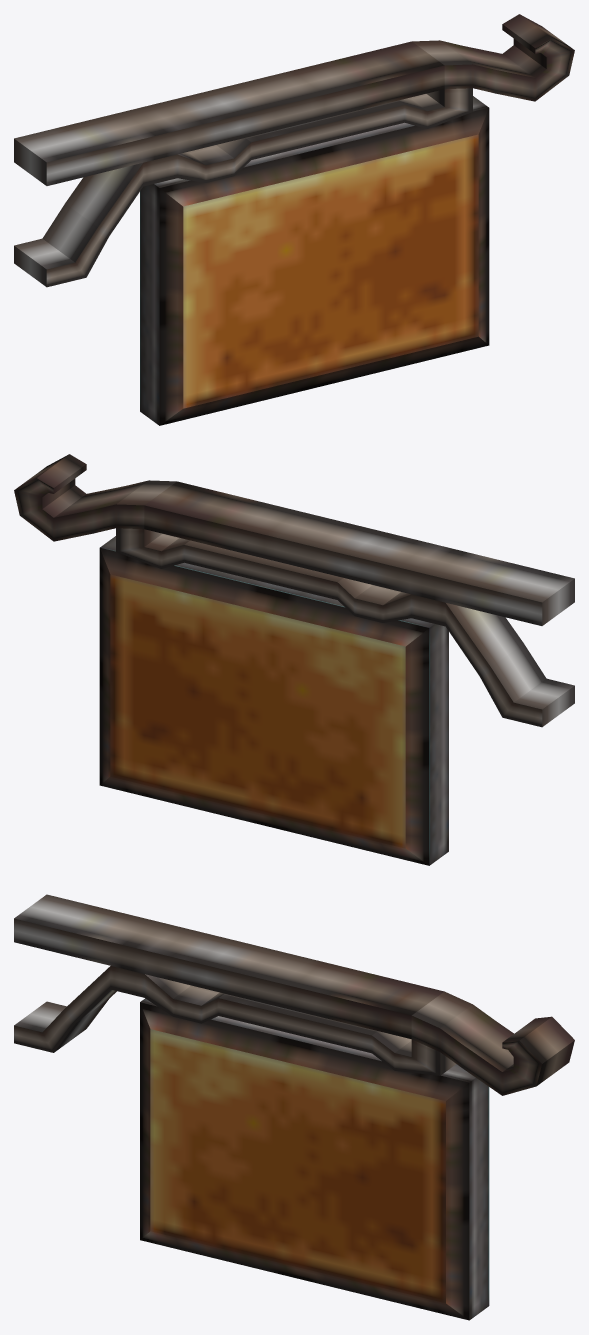
The model's file is Poly_SF_Outside_B_Board_Sign_08.obj.
3 renders of one model, top to bottom at view 1: azimuth 30°, elevation 25°; view 2: azimuth 150°, elevation 25°; view 3: azimuth 330°, elevation 25°, orthographic.
Parts seen in each view (by area): view 1: Cube, Cube.001; view 2: Cube, Cube.001; view 3: Cube, Cube.001.
Part boxes in pixels (x1,y1,x2,y2): Cube: [140, 96, 489, 425]; Cube.001: [14, 14, 574, 287]; Cube: [99, 536, 448, 865]; Cube.001: [14, 454, 574, 727]; Cube: [140, 998, 489, 1320]; Cube.001: [14, 894, 574, 1095].
Size of the model in its own units: 0.9295 by 0.5019 by 0.1.
1 material, 1 textured.
